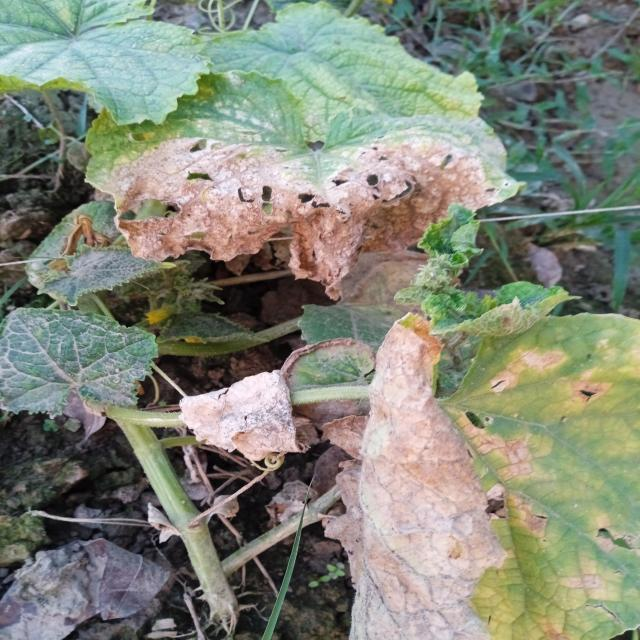cucumber_bacterial: (353, 319, 640, 635), (80, 103, 469, 272), (174, 379, 317, 484)
